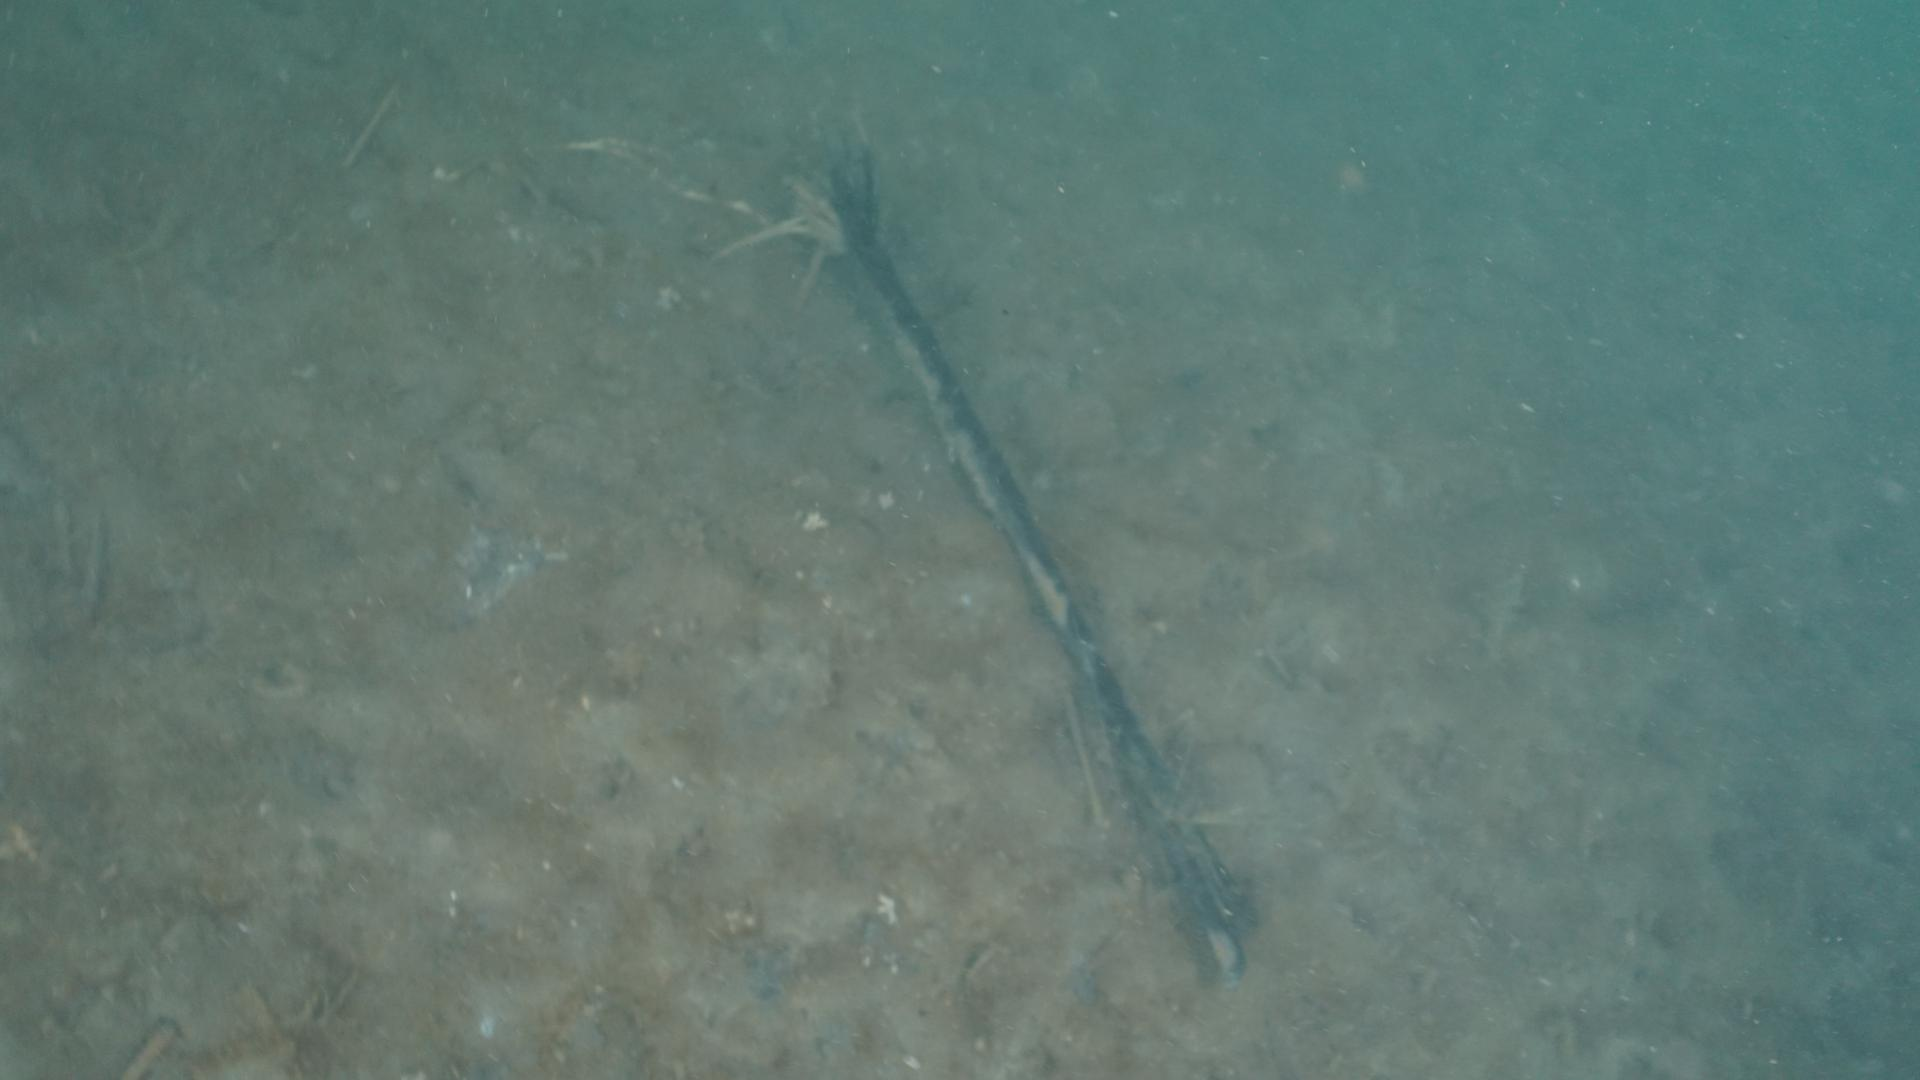wood: (709, 133, 1261, 985)
